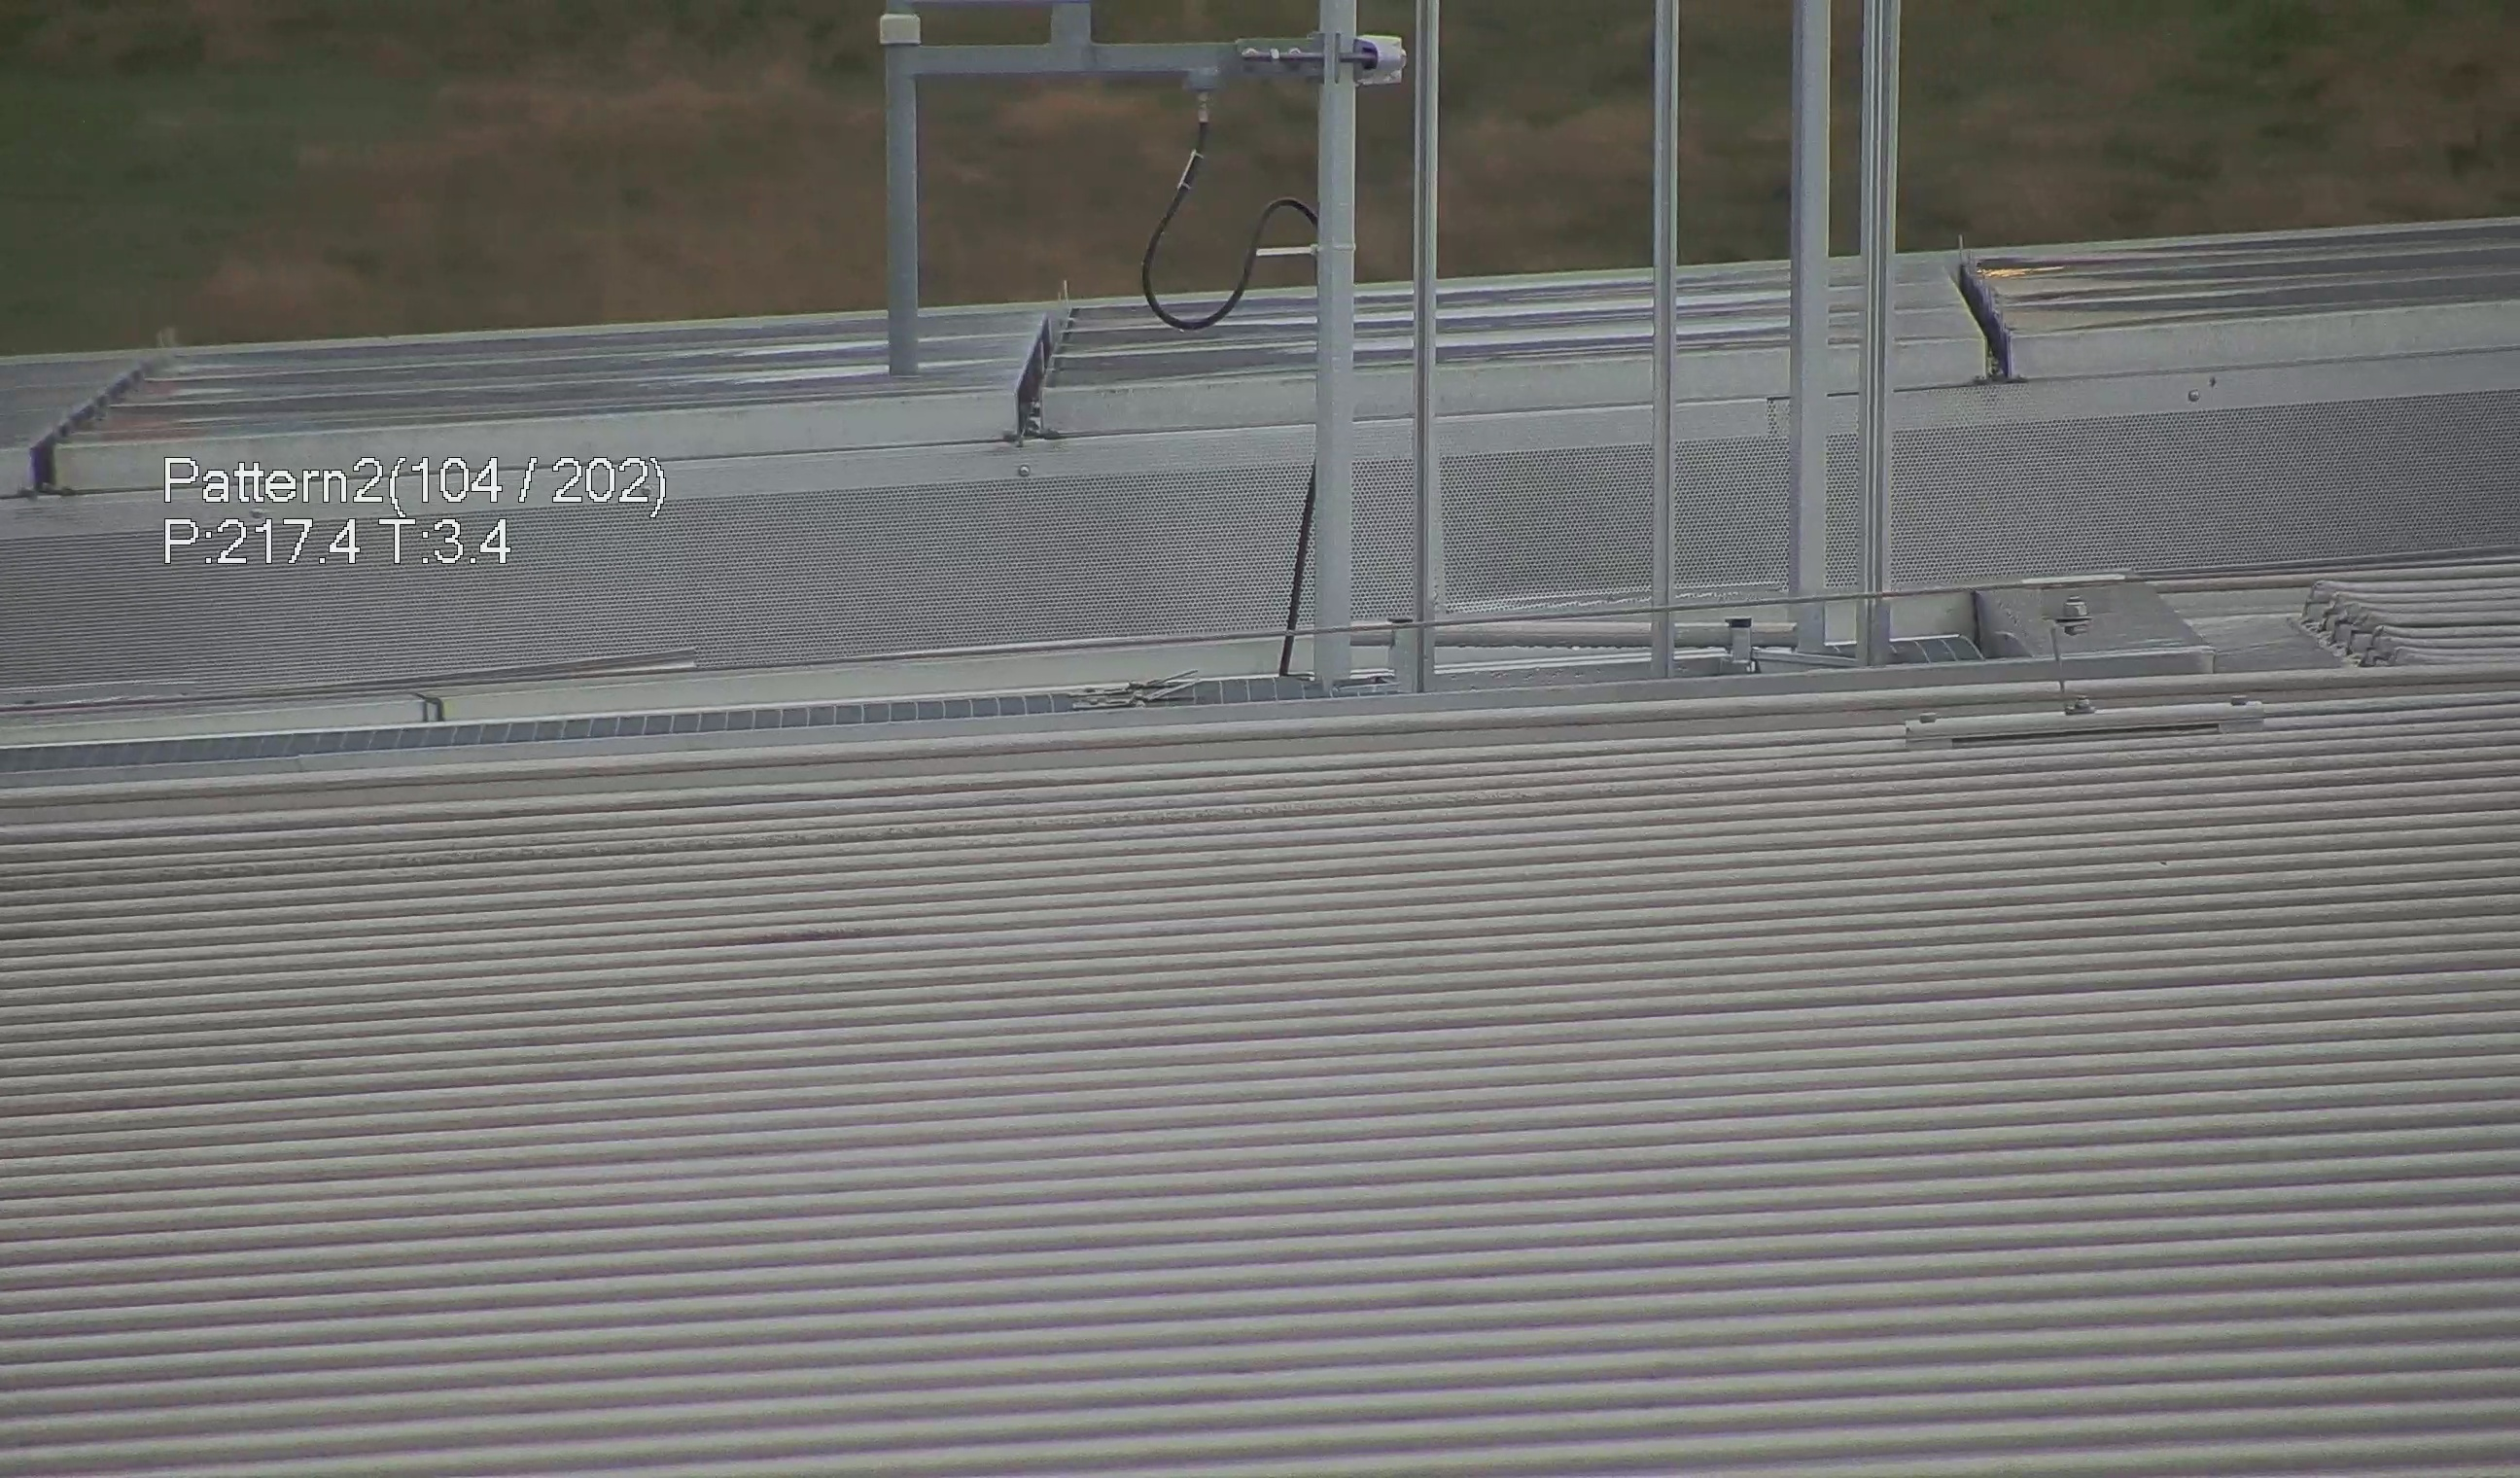Other: (1933, 236, 2049, 387)
